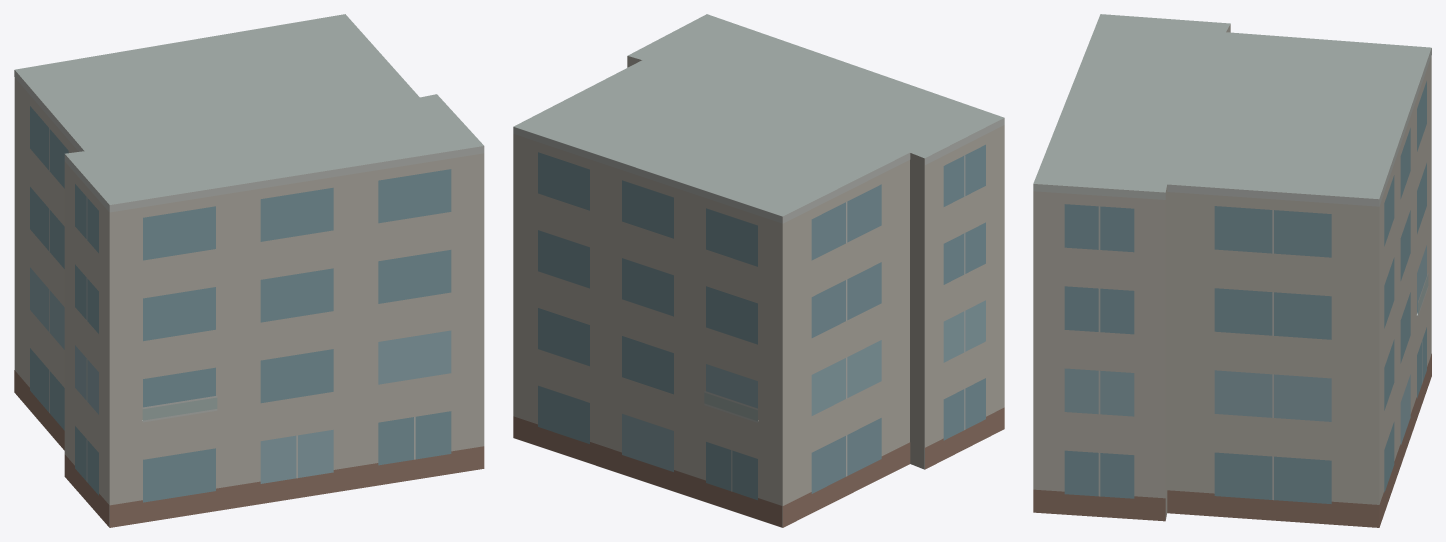
The model's file is survey-upis-32802927.glb.
3 views of the same model, side by side, from view 1: azimuth 30°, elevation 25°; view 2: azimuth 150°, elevation 25°; view 3: azimuth 270°, elevation 25° (orthographic). The views are drawn at different scales.
Visible parts, largest first — view 1: survey-upis-32802927.tmp; view 2: survey-upis-32802927.tmp; view 3: survey-upis-32802927.tmp.
Boxes of the visible parts, x1,y1,x2,y2 form: survey-upis-32802927.tmp: [14, 14, 484, 527]; survey-upis-32802927.tmp: [513, 14, 1004, 527]; survey-upis-32802927.tmp: [1033, 14, 1431, 527].
Bounding box in the file's own units: 12.97 × 10.73 × 11.8.
